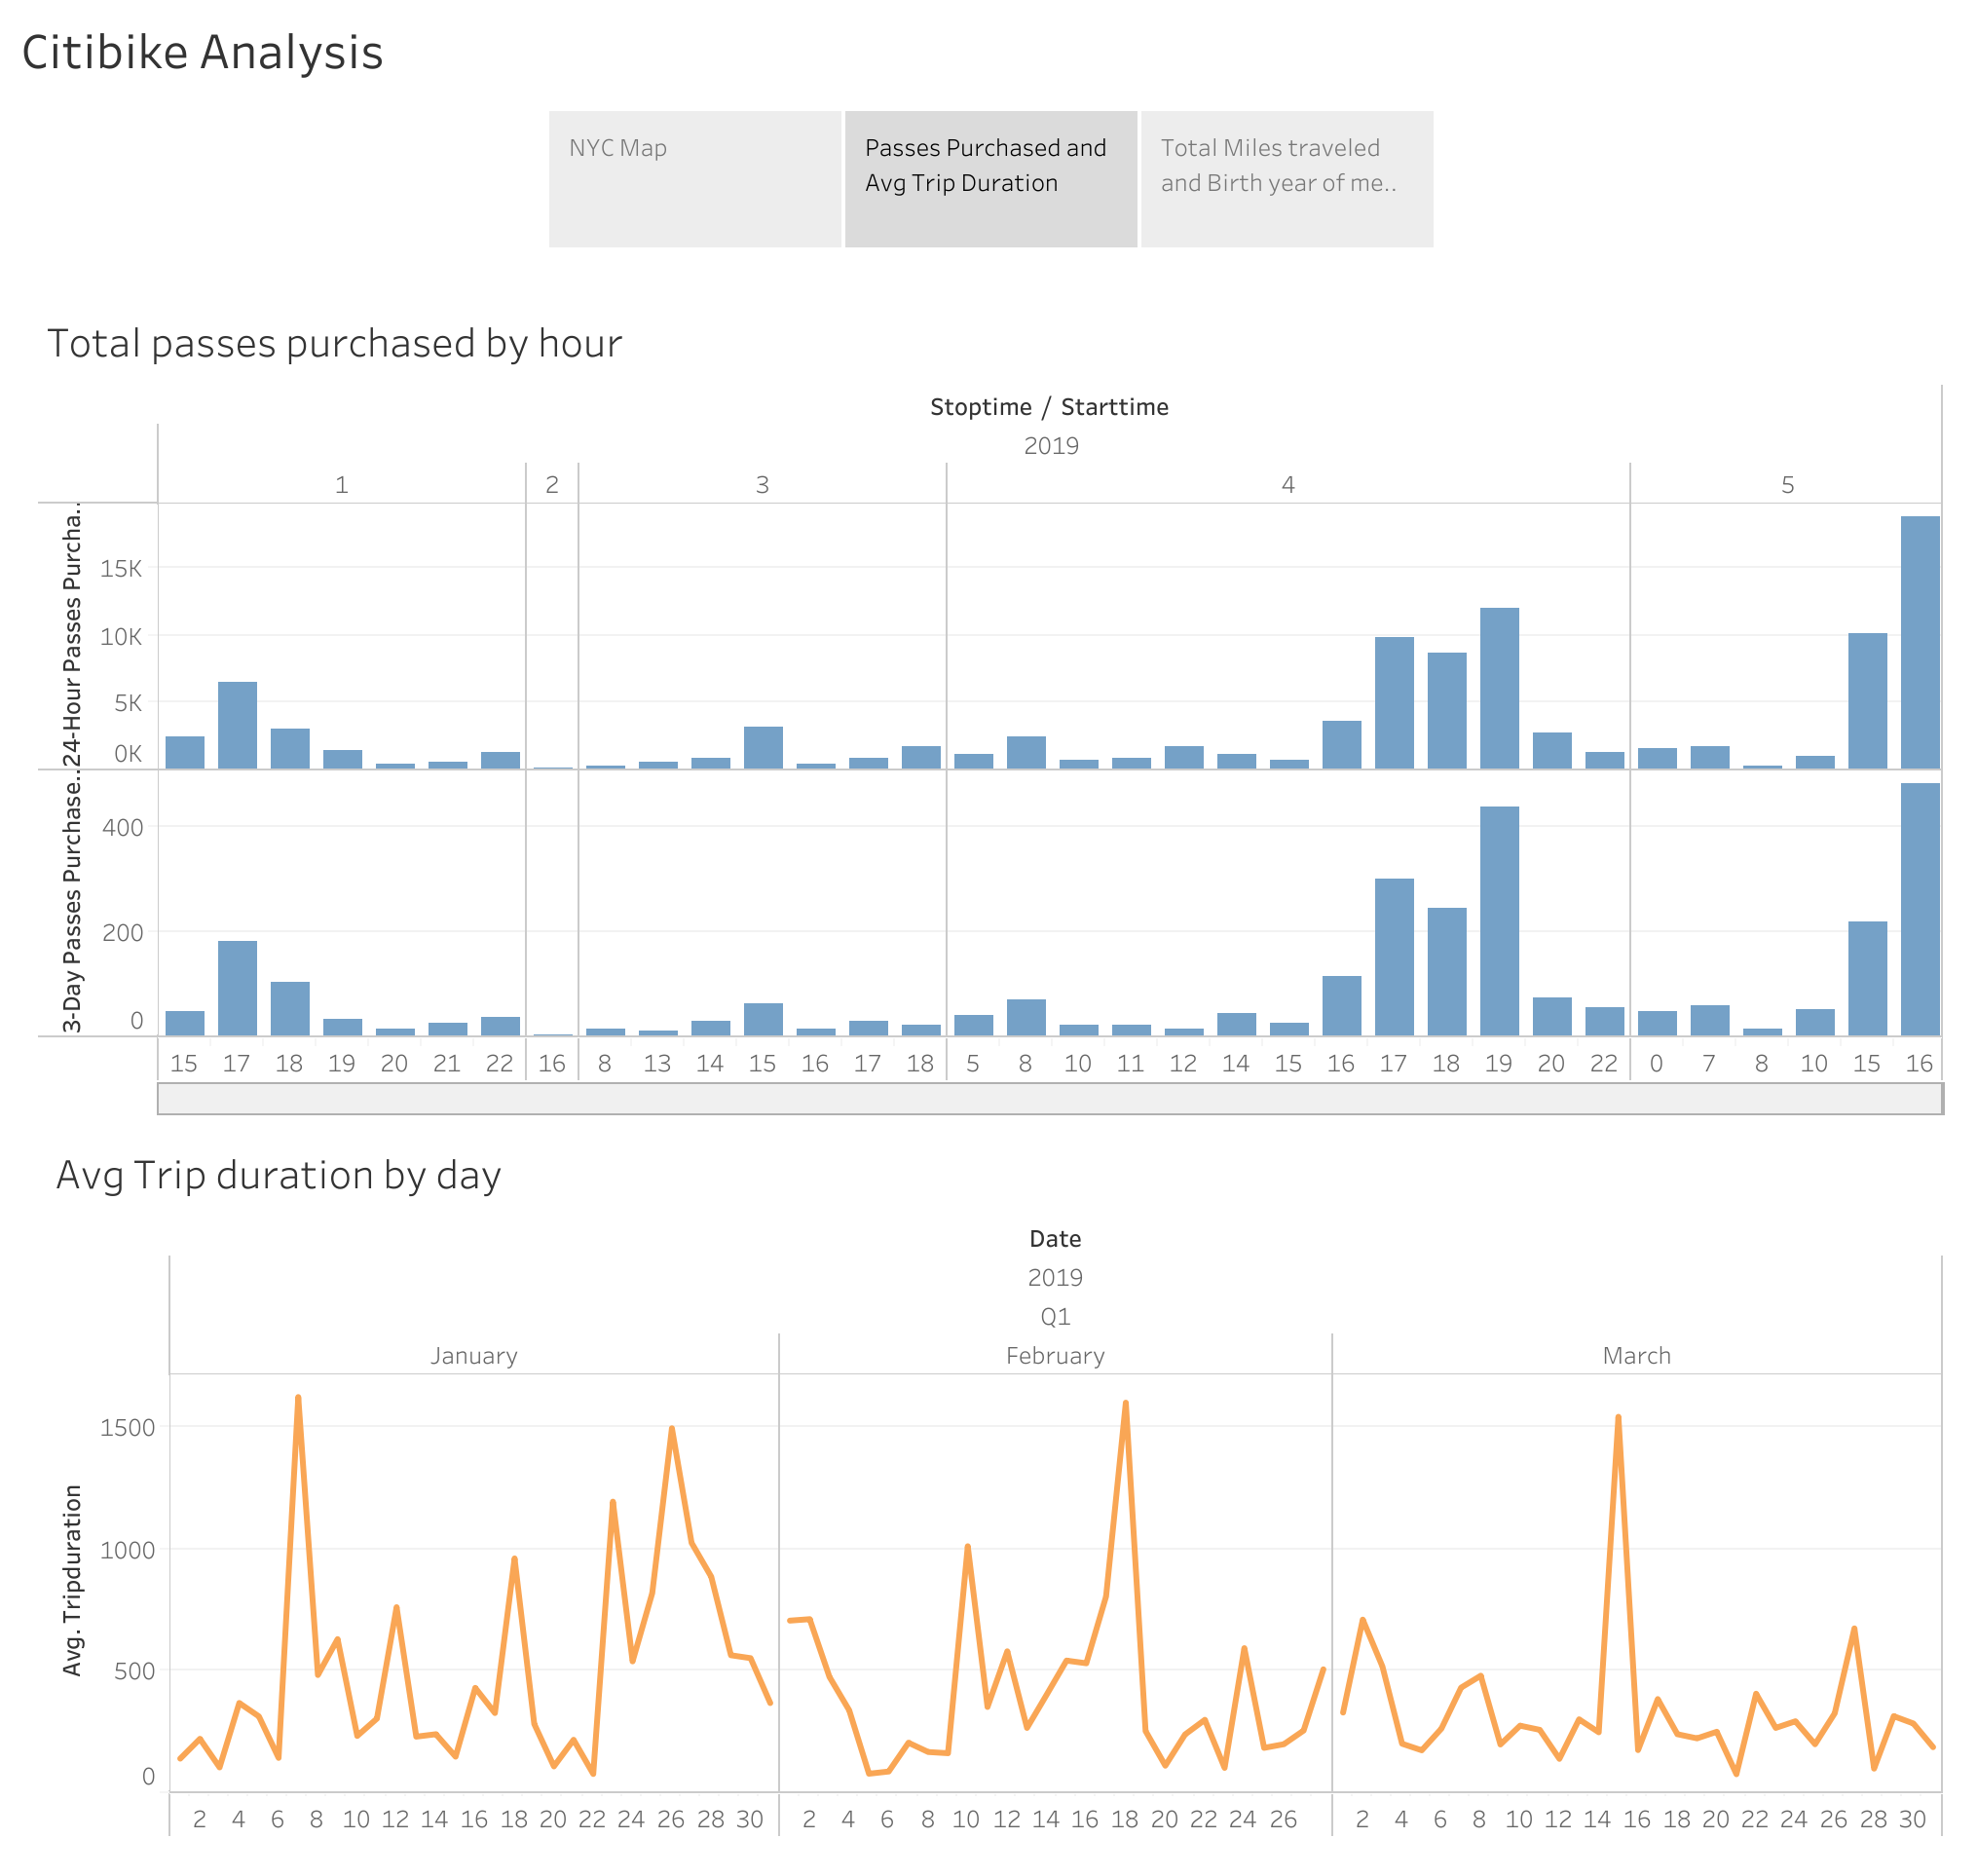

Layout of this report page (visuals, bound fields, positions):
{"tool":"tableau","page":{"name":"Dashboard 1","canvas":[1000,1000],"units":"permille","ordinal":0},"visuals":[{"type":"worksheet","box":[0,0,1000,1000]},{"type":"worksheet","title":"Total passes purchased by hour","mark":"Bar","rows":["59 pm)","59 pm)"],"cols":["stoptime","starttime","starttime"],"box":[7.1,11.1,985.8,523.9]},{"type":"worksheet","title":" Avg Trip duration by day","mark":"Automatic","rows":["tripduration"],"cols":["Date","Date","Date","Date"],"box":[7.1,534.9,985.8,454]}]}

Visuals, with their boxes on the dashboard's canvas, which has no fixed pixel size, in thousandths of its width and height (x1, y1, x2, y2). These are canvas units, not pixel positions in the 1977x1876 screenshot, which may show the page scaled, cropped or inside an application window:
worksheet: [0, 0, 1000, 1000]
"Total passes purchased by hour" worksheet (Bar marks): [7, 11, 993, 535]
" Avg Trip duration by day" worksheet: [7, 535, 993, 989]
